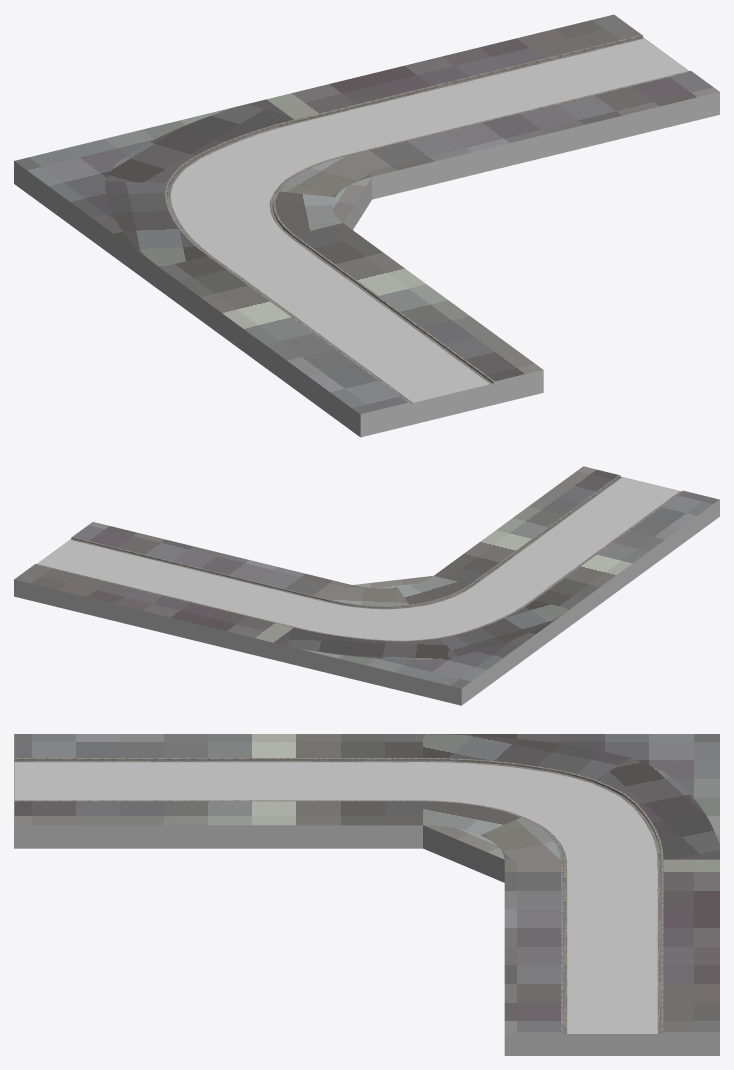
The model's file is Road_02a_r.fbx.
3 views of the same model, one above another, from view 1: azimuth 30°, elevation 25°; view 2: azimuth 150°, elevation 25°; view 3: azimuth 270°, elevation 25° (orthographic). The views are drawn at different scales.
Visible parts, largest first — view 1: Road_02a_r; view 2: Road_02a_r; view 3: Road_02a_r.
Boxes of the visible parts, x1,y1,x2,y2 form: Road_02a_r: (14,14,719,437); Road_02a_r: (14,466,719,705); Road_02a_r: (14,734,719,1055).
Size of the model in its own units: 59 by 2.16 by 59.
